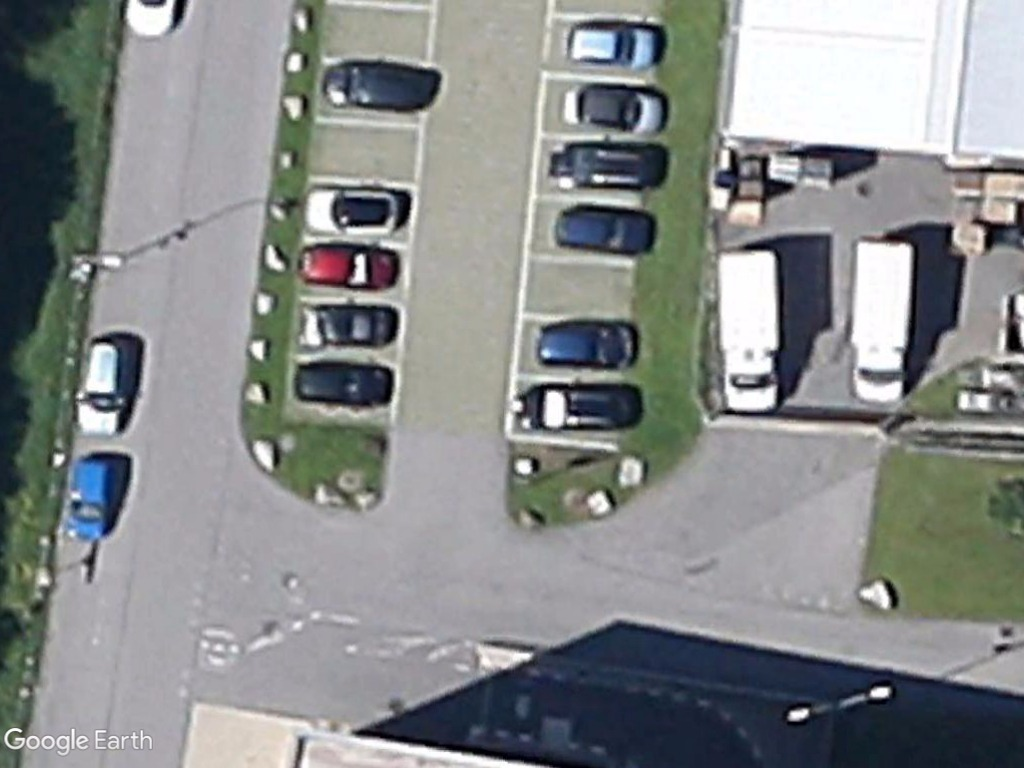car: (301, 181, 405, 241), (73, 331, 130, 440), (552, 200, 659, 258), (559, 80, 668, 135), (532, 316, 638, 372), (289, 242, 399, 291), (69, 450, 120, 543), (561, 21, 659, 69)
truck: (711, 243, 789, 416), (843, 233, 918, 405)
